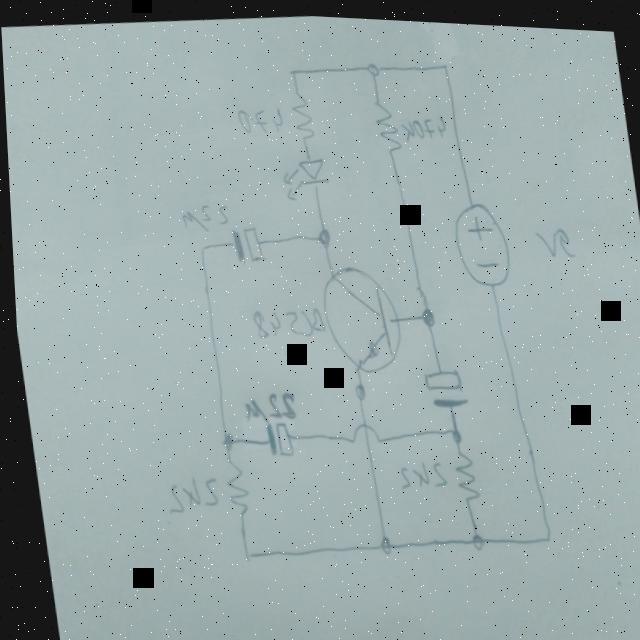capacitor: (417, 359, 466, 405), (228, 220, 264, 264), (259, 415, 291, 457)
crossover: (342, 415, 382, 447)
diode: (278, 151, 330, 201)
junction: (313, 223, 332, 247), (415, 301, 434, 325), (442, 419, 461, 442), (371, 529, 389, 553), (214, 429, 231, 454), (463, 526, 482, 548), (362, 56, 382, 76), (233, 542, 251, 564), (536, 521, 553, 541), (192, 237, 208, 257), (348, 378, 364, 397), (439, 55, 450, 73), (286, 62, 299, 77)
resistor: (370, 92, 404, 158), (217, 451, 248, 518), (446, 440, 477, 502), (286, 83, 316, 142)
source: (447, 194, 513, 286)
text: (247, 299, 324, 339), (159, 472, 217, 516), (237, 385, 295, 421), (392, 453, 446, 487), (399, 106, 448, 142), (236, 100, 284, 136), (531, 218, 575, 257), (177, 198, 229, 231)
transistor: (315, 256, 404, 375)
